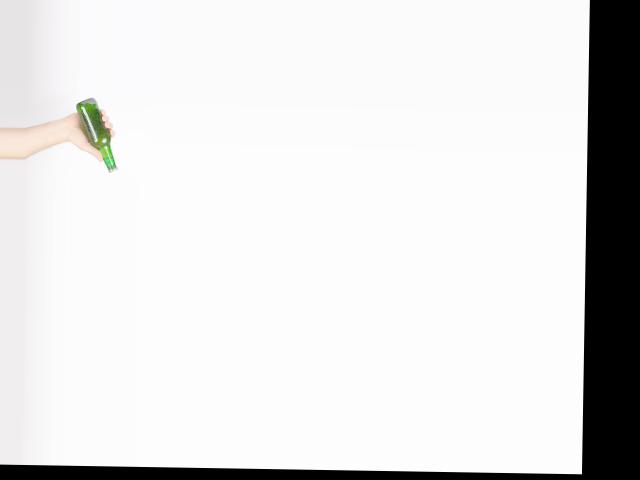beer: (74, 97, 118, 172)
